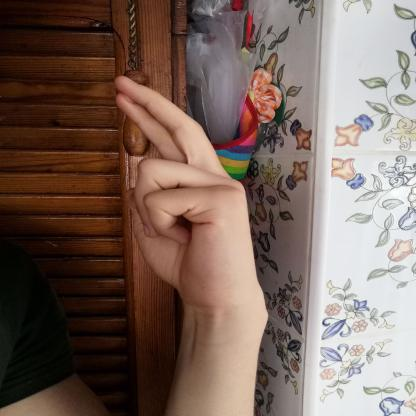ZAY: (101, 69, 277, 318)
